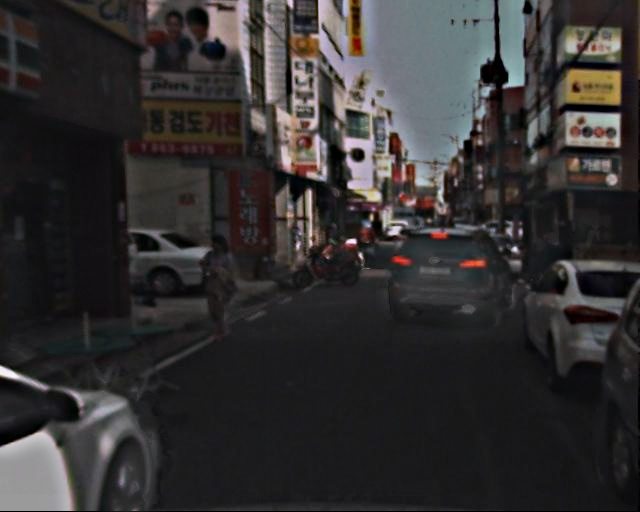person: (198, 229, 248, 340), (529, 224, 568, 311)
